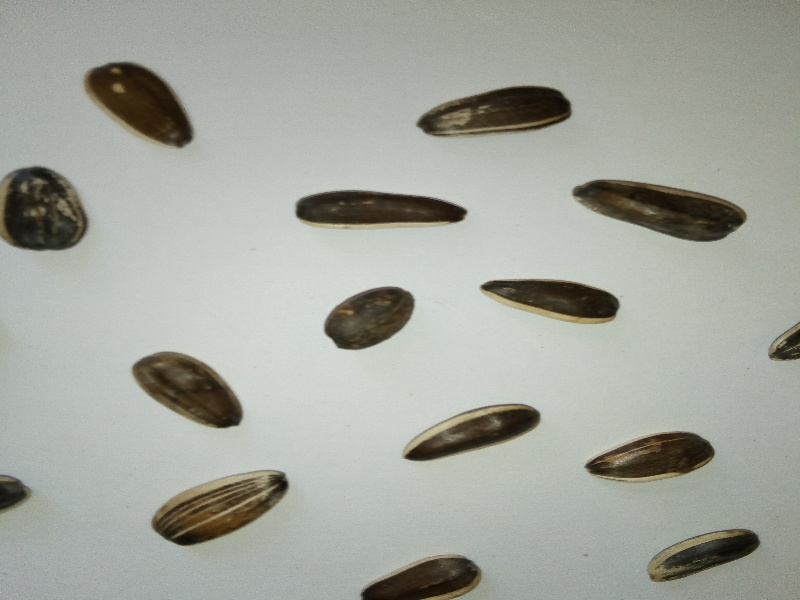girasol: (567, 172, 750, 250), (147, 463, 297, 556), (412, 72, 576, 154), (80, 56, 196, 155), (396, 397, 548, 470), (125, 349, 248, 433), (473, 272, 624, 337), (579, 426, 721, 489), (643, 520, 770, 587), (287, 187, 472, 232), (316, 283, 419, 354)
